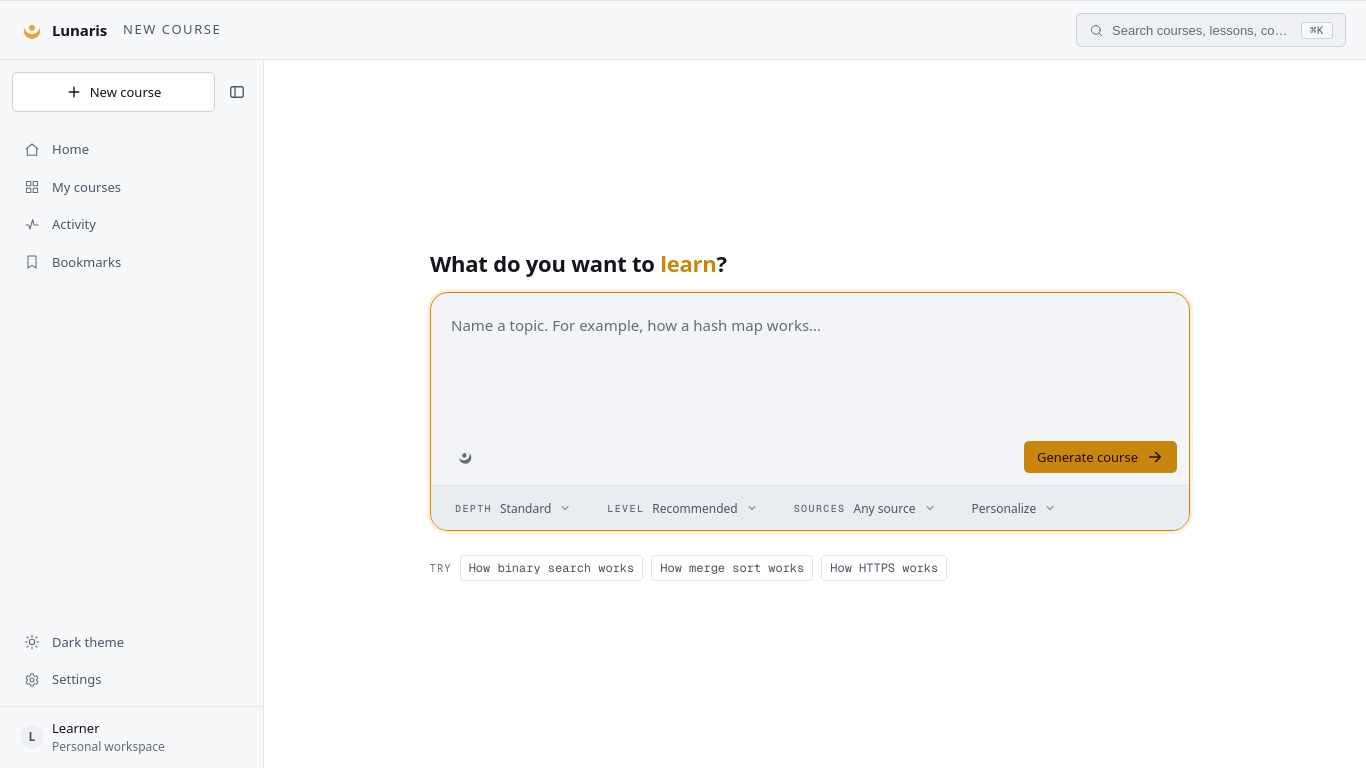
Test: Composer — the Studio | Live fork › starts a Live session from the composer instead of a Studio build
Click the button named "live mode". click: (465, 457)
box: [443,441,487,473]
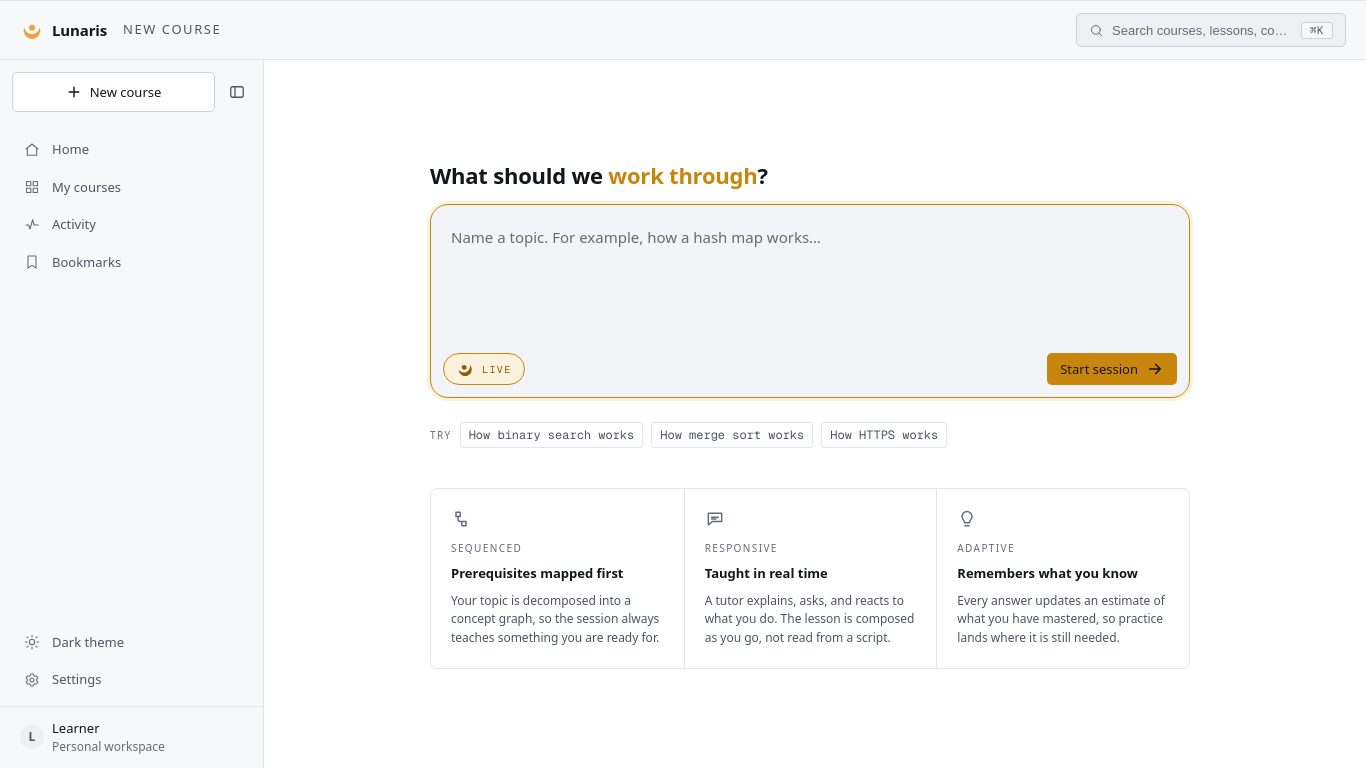
Type "How transformers work" into the text box labelled "Name a topic. For example, how a hash map works…". click: (810, 279)
box: [431,205,1189,353]
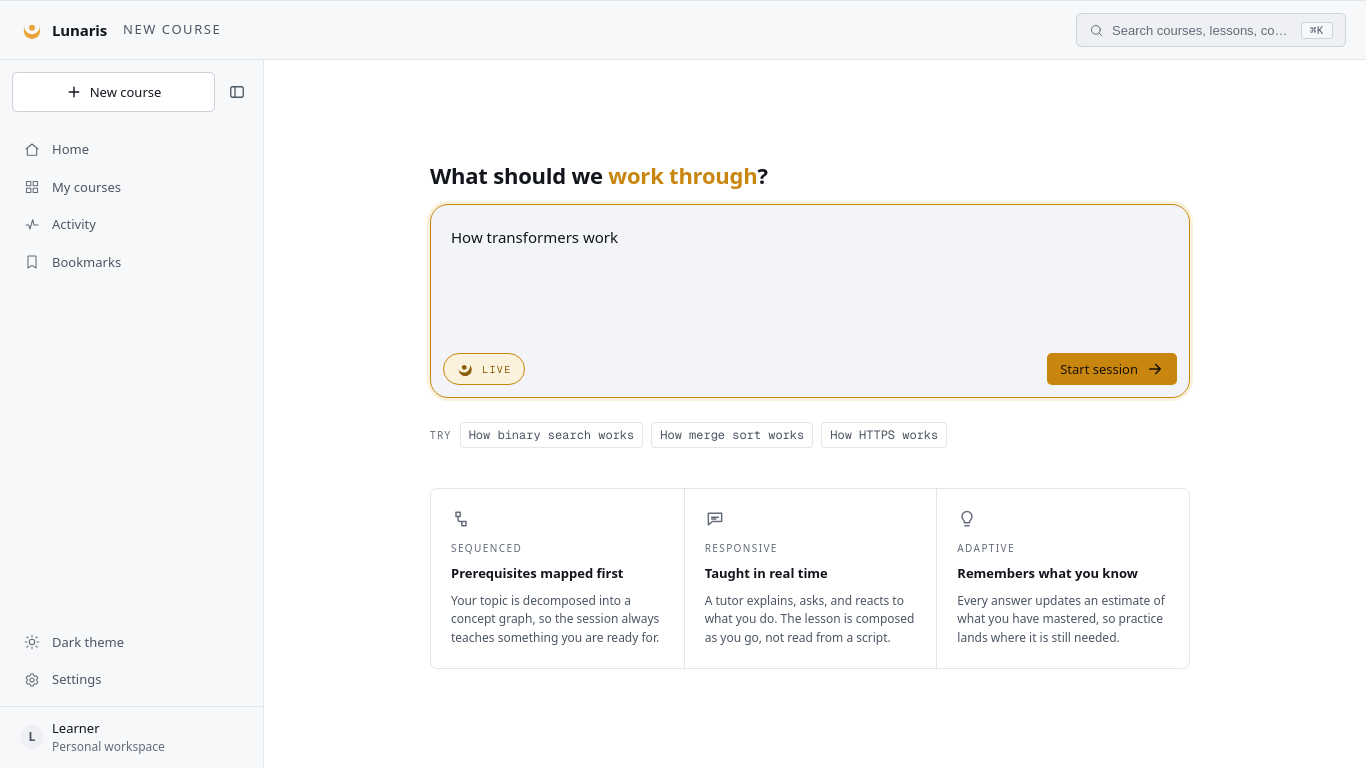
Click the button "Start session". click: (1112, 369)
box: [1047,353,1177,385]
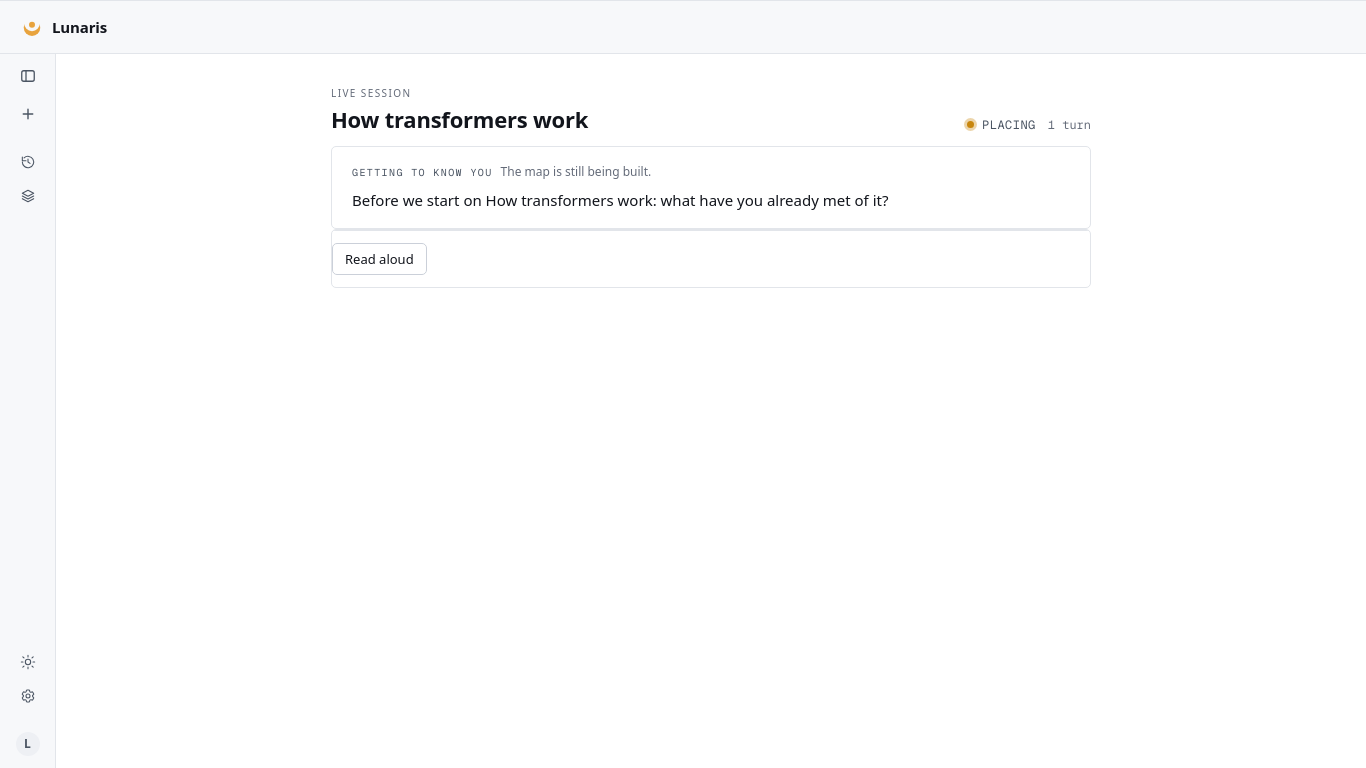
Now the element named "session on how transformers work" is shown, box [331,86,1091,288]
